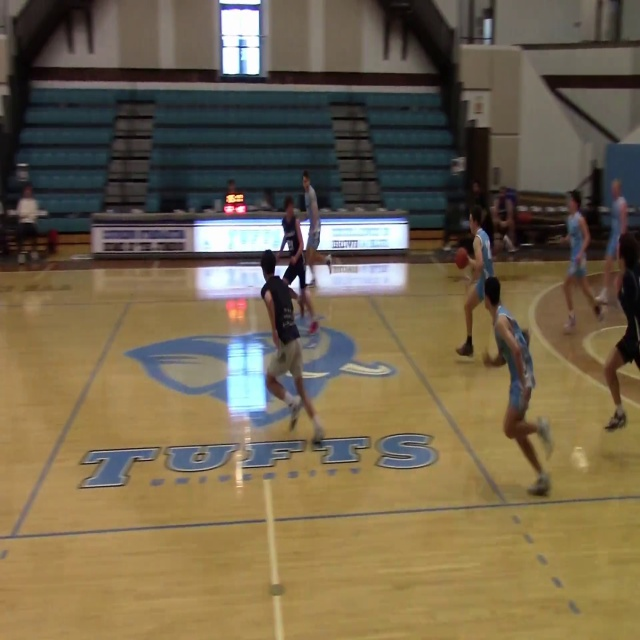Basketball: (454, 247, 469, 269)
